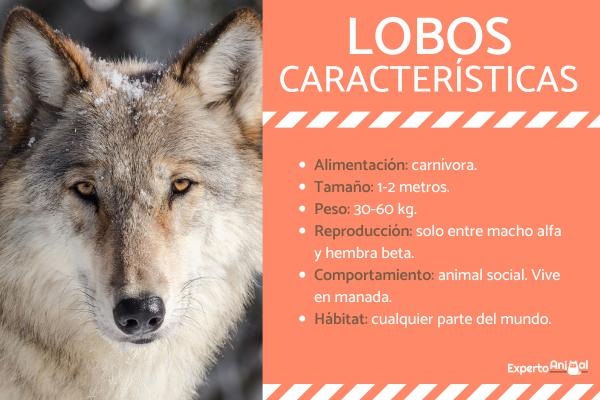Lobo: (8, 7, 260, 372)
